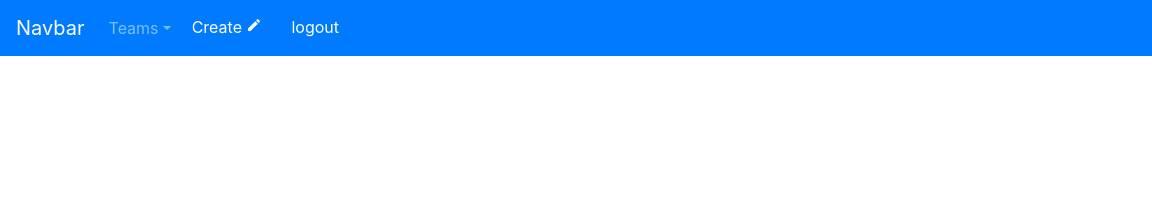
Test: Navbar - Teams dropdown populates correctly - › When there are teams in state there should be all teams in the dropdown
The width and height of the screenshot is (1152, 213).
Click the link "Teams": (140, 28) [100,8,179,48]
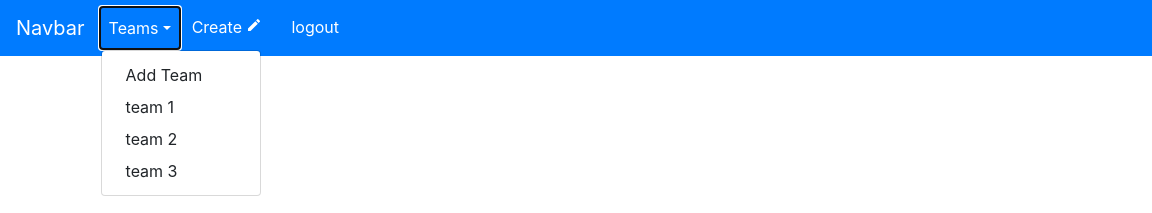
Expected: the link "team 1" is shown, [126,97,174,117]
Expected: the link "team 2" is shown, [126,129,177,149]
Expected: the link "team 3" is shown, [126,161,178,181]
